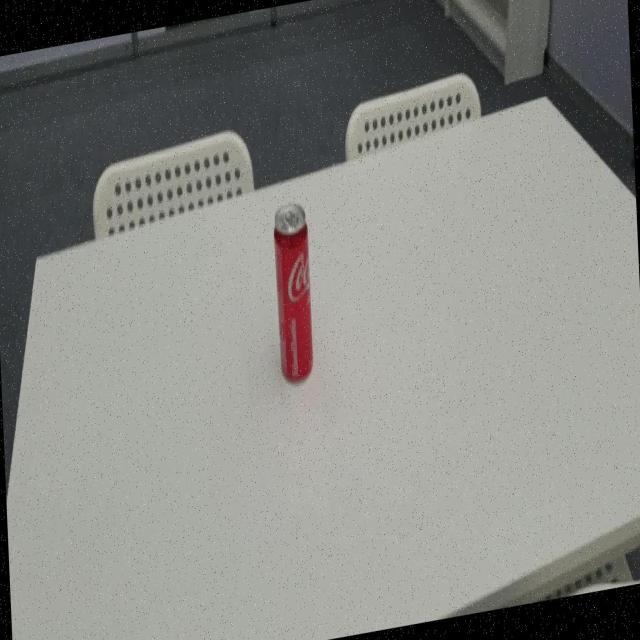coca-cola: (270, 195, 317, 393)
